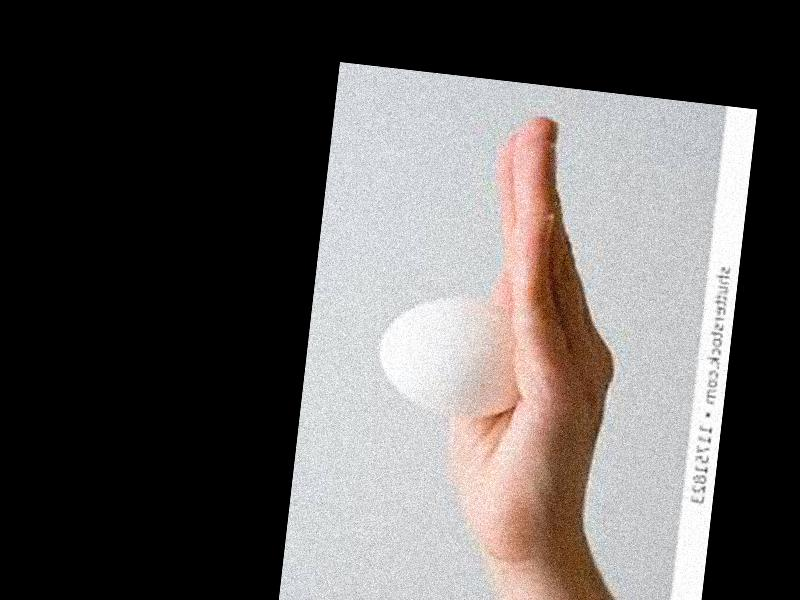Eggs: (375, 289, 530, 416)
